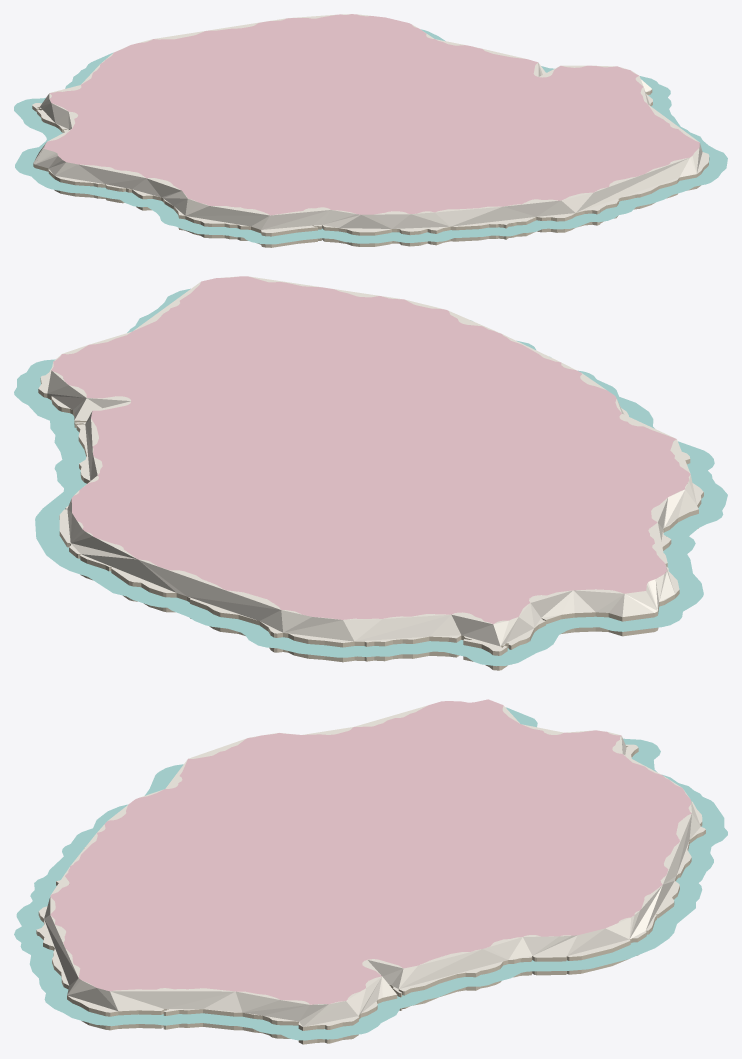
Rendered from la-reunion.glb.
The picture shows the model from 3 angles, top to bottom: view 1: azimuth 30°, elevation 25°; view 2: azimuth 150°, elevation 25°; view 3: azimuth 270°, elevation 25°; orthographic projection. The views are drawn at different scales.
Parts seen in each view (by area): view 1: terre, plage, lagon, falaise; view 2: terre, plage, lagon, falaise; view 3: terre, plage, lagon, falaise.
Part boxes in pixels (left/top/right/bottom): terre: left=43, top=14, right=699, bottom=215; plage: left=32, top=14, right=709, bottom=232; lagon: left=14, top=29, right=727, bottom=244; falaise: left=32, top=89, right=709, bottom=247; terre: left=51, top=276, right=690, bottom=624; plage: left=38, top=276, right=703, bottom=651; lagon: left=14, top=288, right=727, bottom=666; falaise: left=38, top=378, right=703, bottom=670; terre: left=50, top=699, right=691, bottom=1004; plage: left=36, top=705, right=705, bottom=1026; lagon: left=14, top=707, right=727, bottom=1040; falaise: left=36, top=746, right=705, bottom=1044.
Size of the model in its own units: 1.06 by 0.05 by 0.9532.
